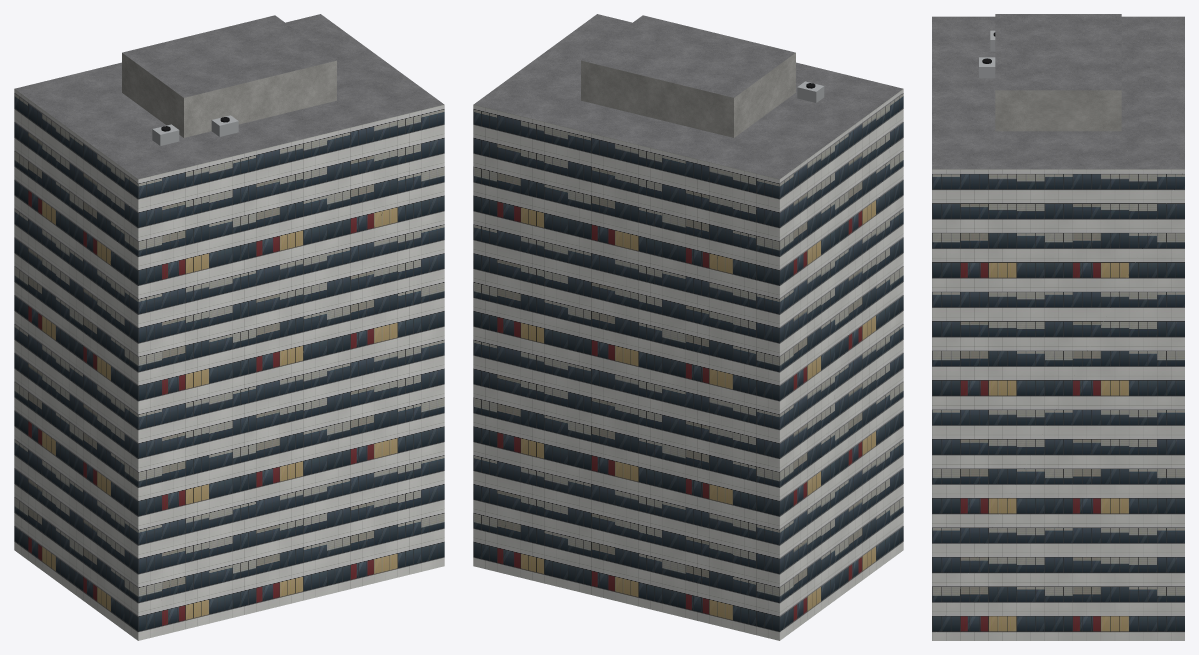
File: 055_ribbon_white.glb
3 renders of one model, left to right at view 1: azimuth 30°, elevation 25°; view 2: azimuth 150°, elevation 25°; view 3: azimuth 270°, elevation 25°, orthographic. The views are drawn at different scales.
Parts seen in each view (by area): view 1: 055_ribbon_white; view 2: 055_ribbon_white; view 3: 055_ribbon_white.
Boxes of the visible parts, left/top/right/bottom form: 055_ribbon_white: left=14, top=14, right=444, bottom=640; 055_ribbon_white: left=473, top=14, right=903, bottom=640; 055_ribbon_white: left=932, top=14, right=1184, bottom=640.
Size of the model in its own units: 40 by 62.6 by 28.
5 materials, 3 textured.
